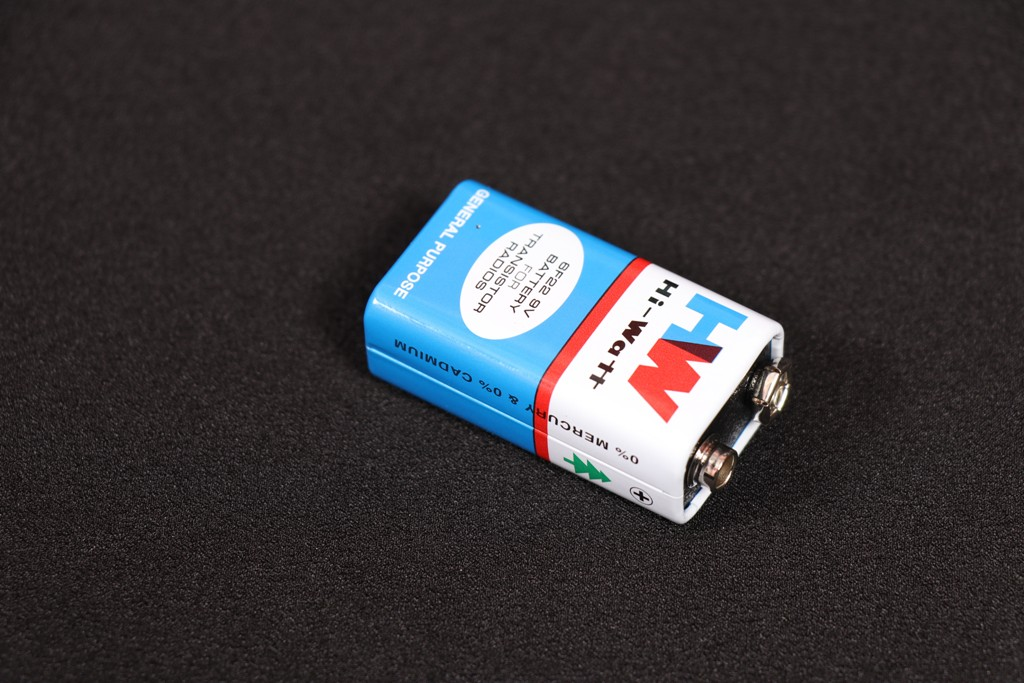9V: (358, 159, 802, 532)
